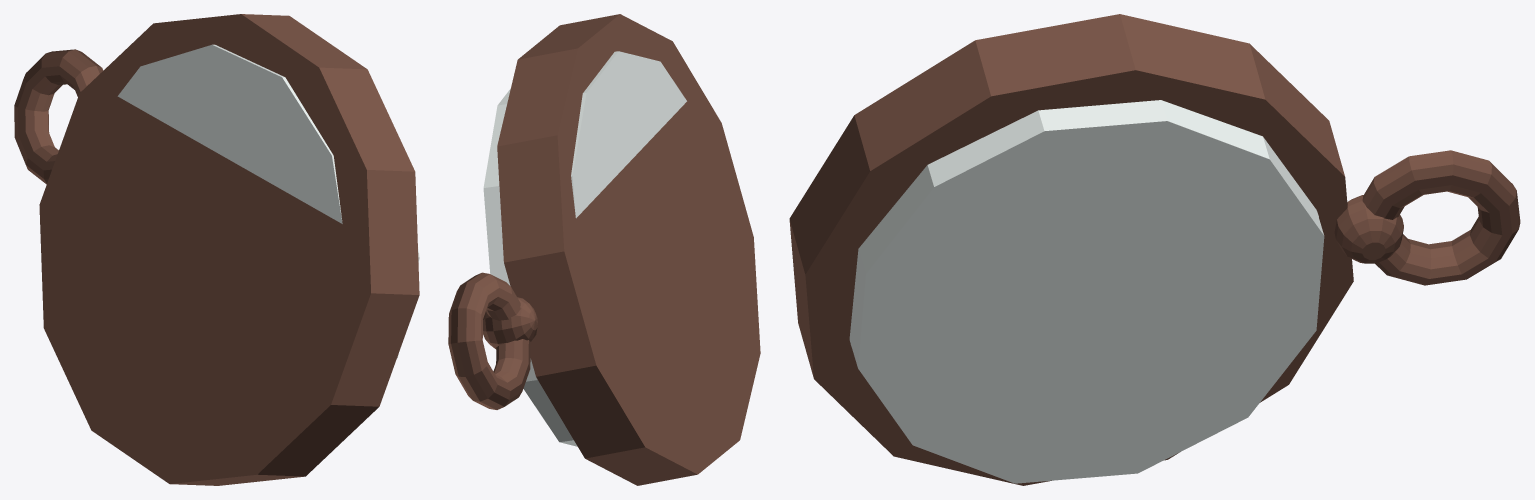
The model's file is Artifact_Compass.fbx.
3 views of the same model, side by side, from view 1: azimuth 30°, elevation 25°; view 2: azimuth 150°, elevation 25°; view 3: azimuth 270°, elevation 25° (orthographic). The views are drawn at different scales.
Visible parts, largest first — view 1: imagetostl_mesh0, imagetostl_mesh4, imagetostl_mesh1; view 2: imagetostl_mesh0, imagetostl_mesh4, imagetostl_mesh1, imagetostl_mesh2; view 3: imagetostl_mesh4, imagetostl_mesh0, imagetostl_mesh1, imagetostl_mesh2.
Boxes of the visible parts, x1,y1,x2,y2 form: imagetostl_mesh0: (39, 14, 419, 485); imagetostl_mesh4: (117, 44, 419, 357); imagetostl_mesh1: (14, 49, 103, 184); imagetostl_mesh0: (497, 14, 760, 485); imagetostl_mesh4: (483, 51, 686, 446); imagetostl_mesh1: (448, 272, 530, 409); imagetostl_mesh2: (483, 297, 537, 349); imagetostl_mesh4: (849, 100, 1324, 483); imagetostl_mesh0: (789, 14, 1353, 485); imagetostl_mesh1: (1362, 150, 1520, 285); imagetostl_mesh2: (1334, 195, 1403, 263).
Bounding box in the file's own units: 21.6 × 39.88 × 51.91.
